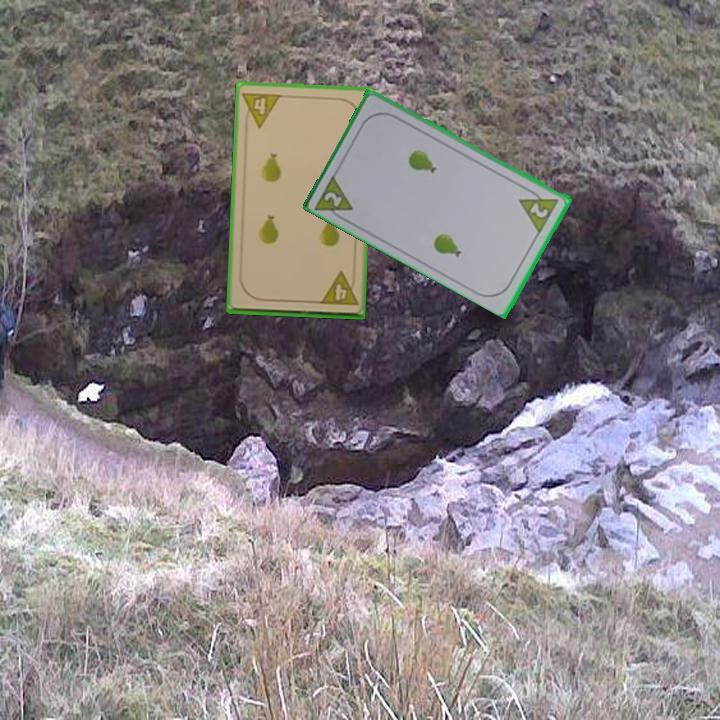2p: (312, 169, 357, 225), (516, 183, 562, 235)
4p: (239, 88, 284, 130), (316, 269, 361, 308)
